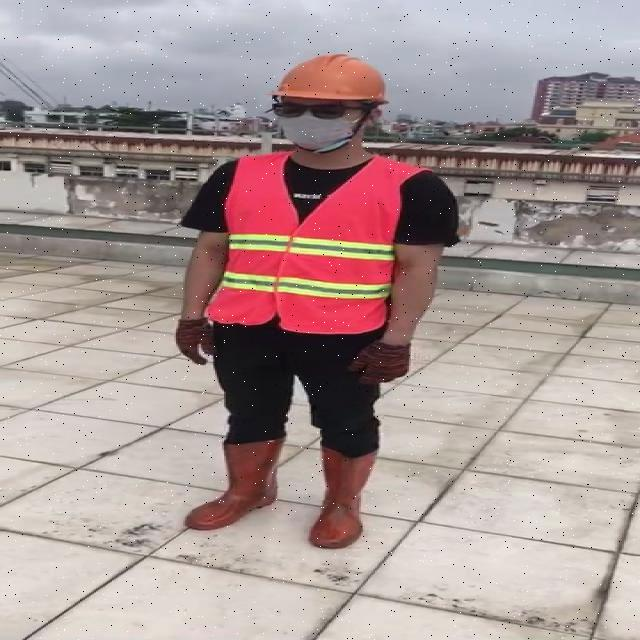Hard_hat: (266, 51, 398, 119)
Person: (171, 53, 466, 617)
Vest: (212, 147, 401, 337)
